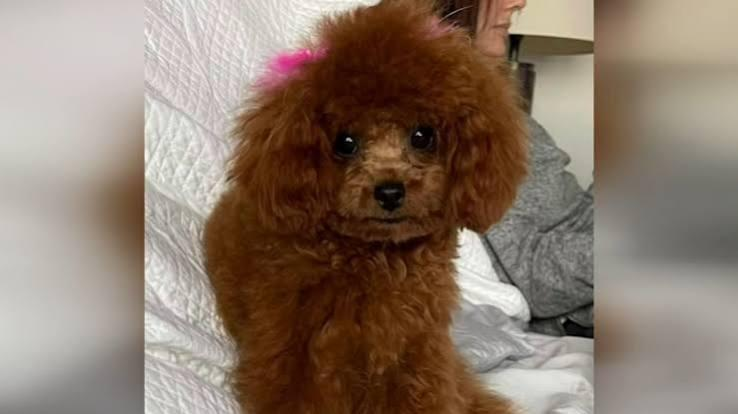puppy-dog: (200, 5, 532, 414)
